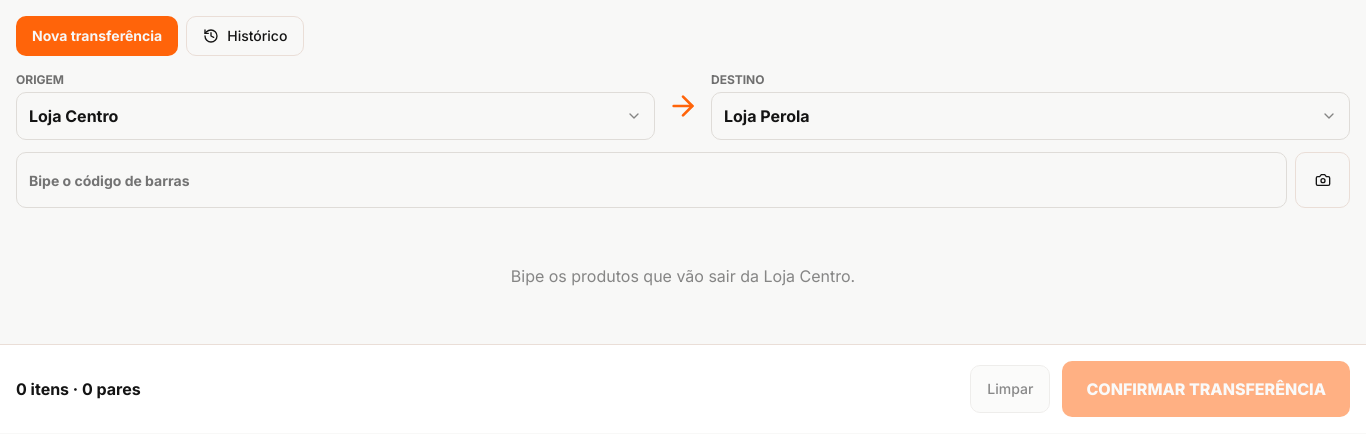
transferência entre lojas › etiqueta nova refaz a busca atual pelo EAN e adiciona o produto
Type "T101-37" into the field labelled "Bipe o código de barras". click: [652, 180]
box: [16, 152, 1287, 208]
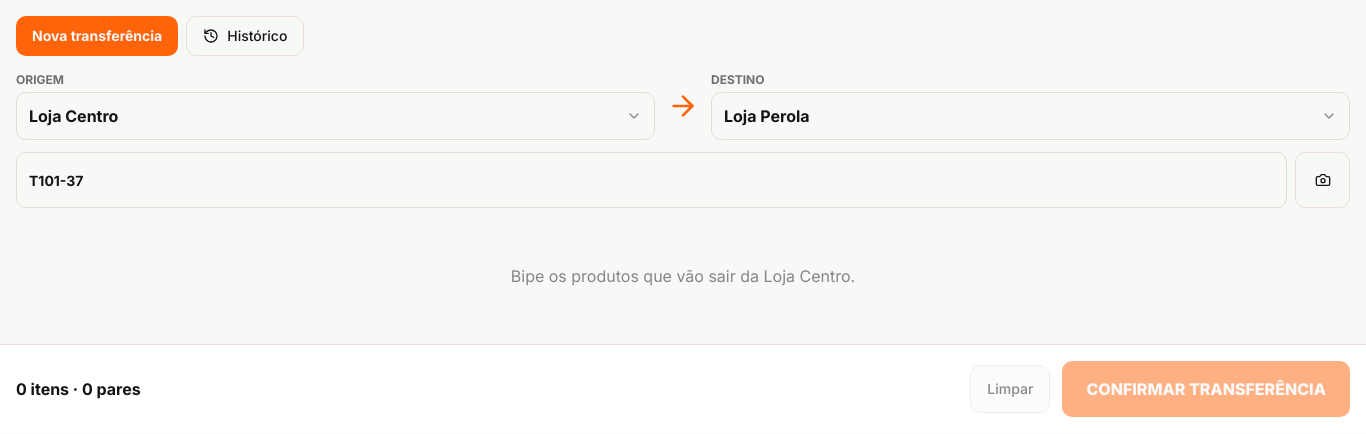
Press Enter in the field named "Bipe o código de barras", box [16, 152, 1287, 208]
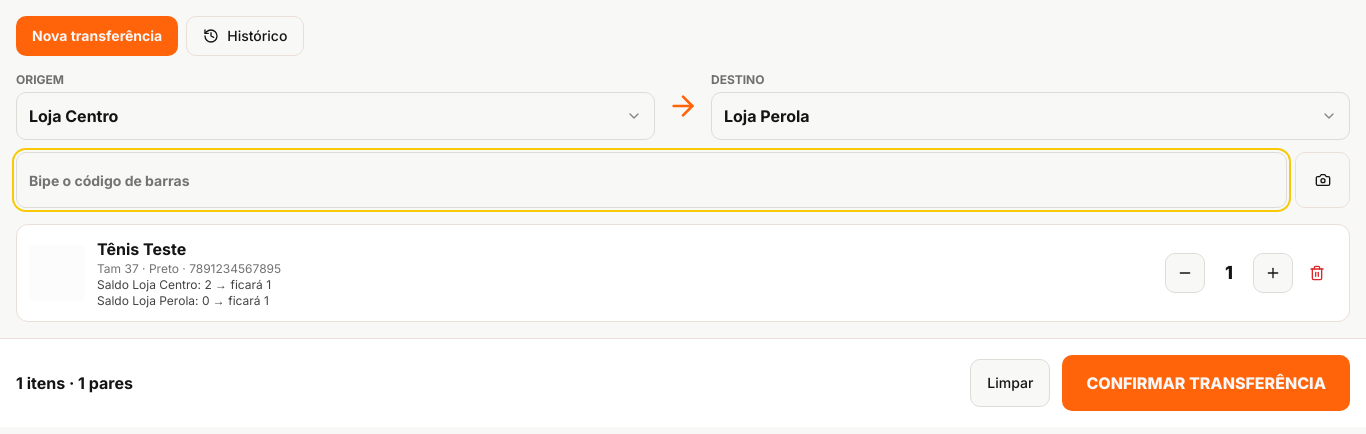
Now the element with test id "transfer-line" shows "Tênis Teste", box [97, 239, 186, 259]
